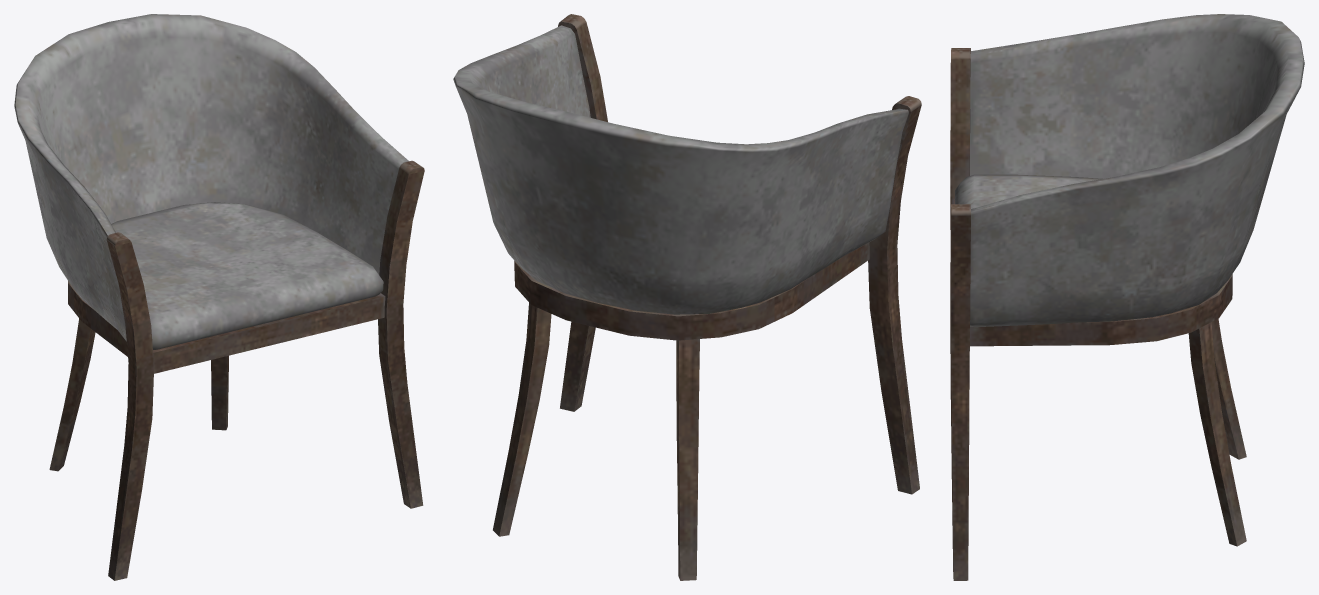
The model's file is 143_WhiteLivingChair.fbx.
3 views of the same model, side by side, from view 1: azimuth 30°, elevation 25°; view 2: azimuth 150°, elevation 25°; view 3: azimuth 270°, elevation 25° (orthographic). The views are drawn at different scales.
Visible parts, largest first — view 1: LOD_1_Group_0_Sub_1__sm30_143_WhiteLivingChair01A_D_Mat; view 2: LOD_1_Group_0_Sub_1__sm30_143_WhiteLivingChair01A_D_Mat; view 3: LOD_1_Group_0_Sub_1__sm30_143_WhiteLivingChair01A_D_Mat.
Part boxes in pixels (x1,y1,x2,y2): LOD_1_Group_0_Sub_1__sm30_143_WhiteLivingChair01A_D_Mat: [14, 14, 424, 580]; LOD_1_Group_0_Sub_1__sm30_143_WhiteLivingChair01A_D_Mat: [453, 14, 921, 580]; LOD_1_Group_0_Sub_1__sm30_143_WhiteLivingChair01A_D_Mat: [950, 14, 1304, 580].
Size of the model in its own units: 0.7643 by 0.955 by 0.6955.
